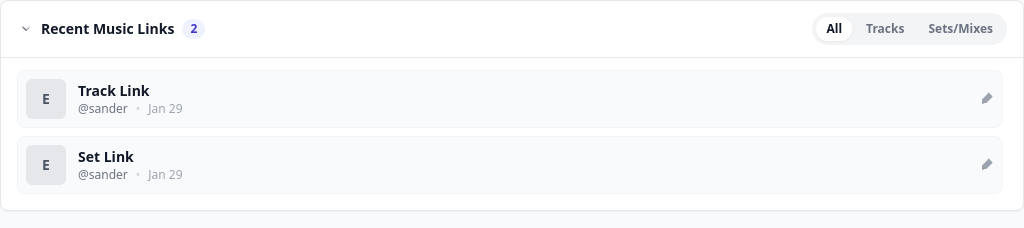
Test: MusicLinksContainer › filters recent links locally by tracks and sets/mixes
What coordinates should you click on to do the following:
click the button "Tracks"
I would click on:
 (885, 29)
Its box is [856,17,914,41].
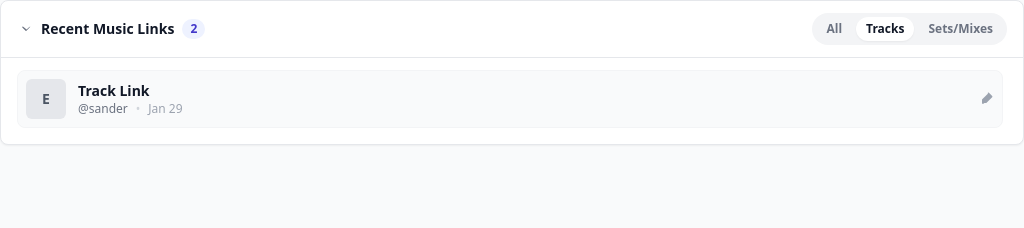
Expected: the text "Track Link" is shown, [78,81,150,100]
Result: the link "Set Link" is gone
What coordinates should you click on to do the following:
click the button "Tracks"
I would click on:
 (885, 29)
Its box is [856,17,914,41].
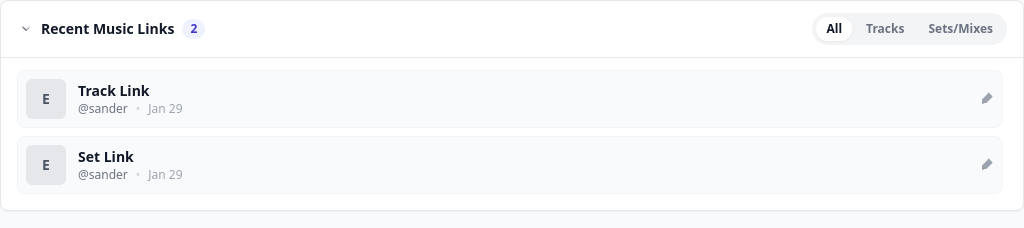
Expected: the text "Track Link" is shown, [78,81,150,100]
Result: the text "Set Link" is shown at [78,147,134,166]
What coordinates should you click on to do the following:
click the button "Sets/Mixes"
I would click on:
 (961, 29)
Its box is [918,17,1003,41].
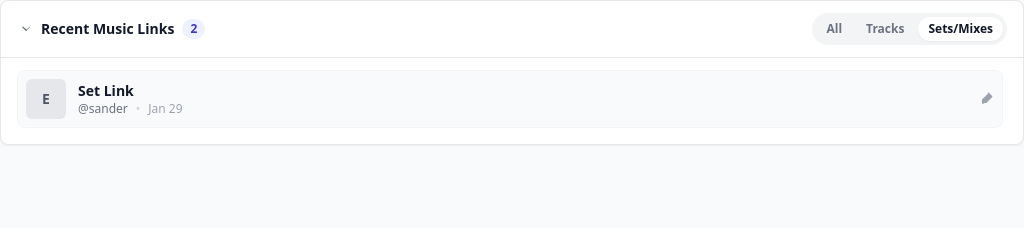
Result: the text "Set Link" is shown at [78,81,134,100]
Result: the link "Track Link" is gone
